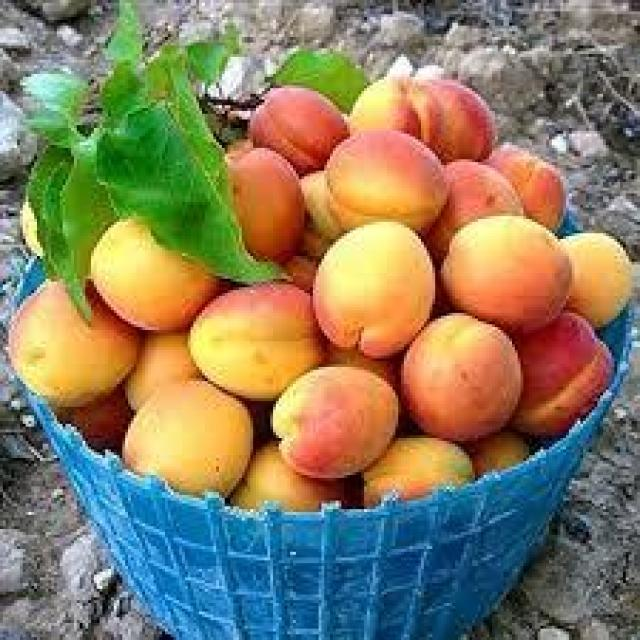kayisi: (307, 210, 441, 363), (114, 375, 258, 513), (185, 279, 332, 413), (433, 210, 576, 342), (396, 308, 531, 447), (316, 125, 454, 247), (265, 362, 399, 483)
yaprak: (88, 59, 304, 290), (37, 127, 128, 330), (267, 42, 387, 121)
